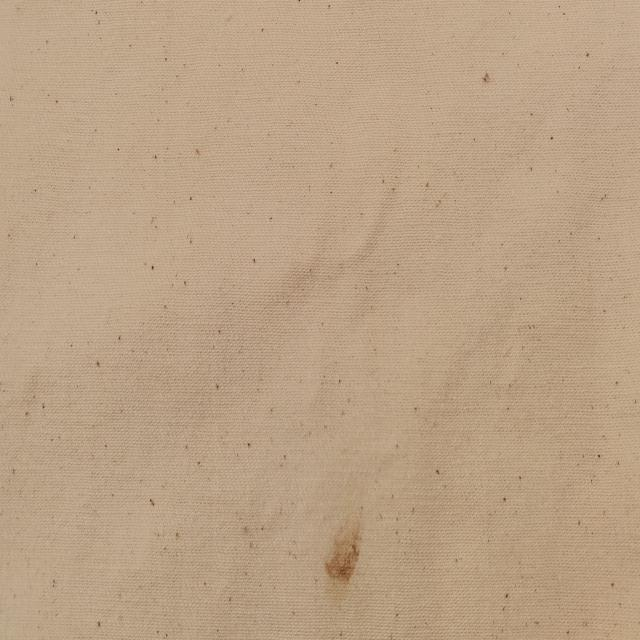taaaches: (318, 495, 364, 595)
